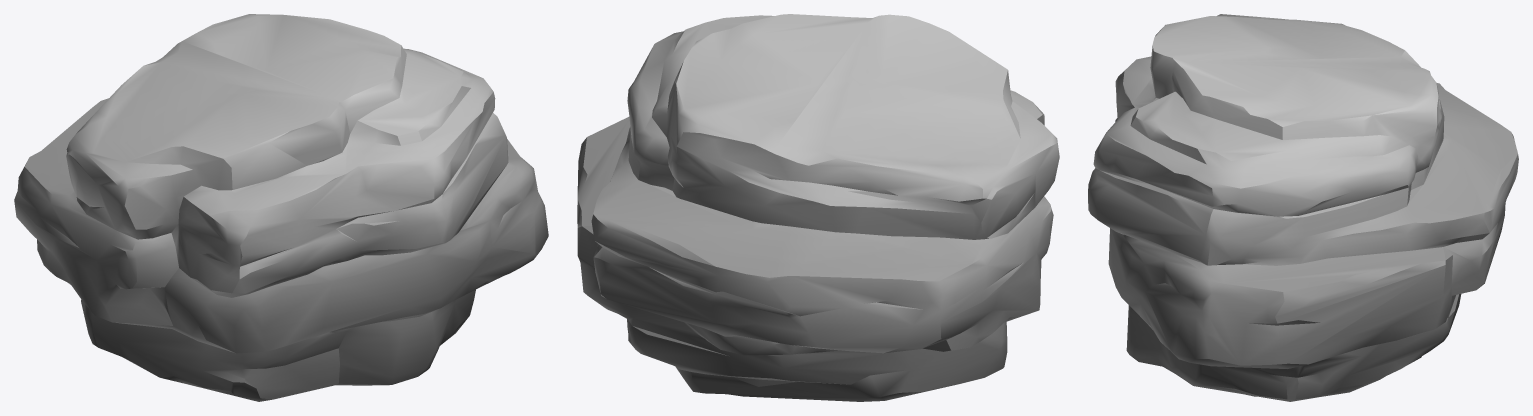
The model's file is Cliff_1.fbx.
The picture shows the model from 3 angles, left to right: view 1: azimuth 30°, elevation 25°; view 2: azimuth 150°, elevation 25°; view 3: azimuth 270°, elevation 25°; orthographic projection. The views are drawn at different scales.
Parts seen in each view (by area): view 1: Cliff_1; view 2: Cliff_1; view 3: Cliff_1.
Part boxes in pixels (x1,y1,x2,y2): Cliff_1: (14, 14, 548, 401); Cliff_1: (577, 14, 1059, 401); Cliff_1: (1088, 14, 1518, 401).
Bounding box in the file's own units: 978 × 626 × 853.
